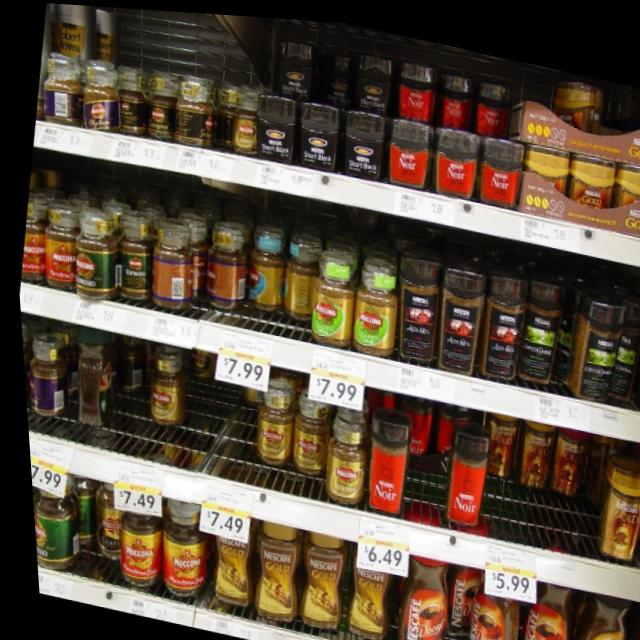q13: (564, 582, 630, 640)
q16: (380, 546, 452, 640), (506, 575, 573, 640), (452, 575, 515, 640)
